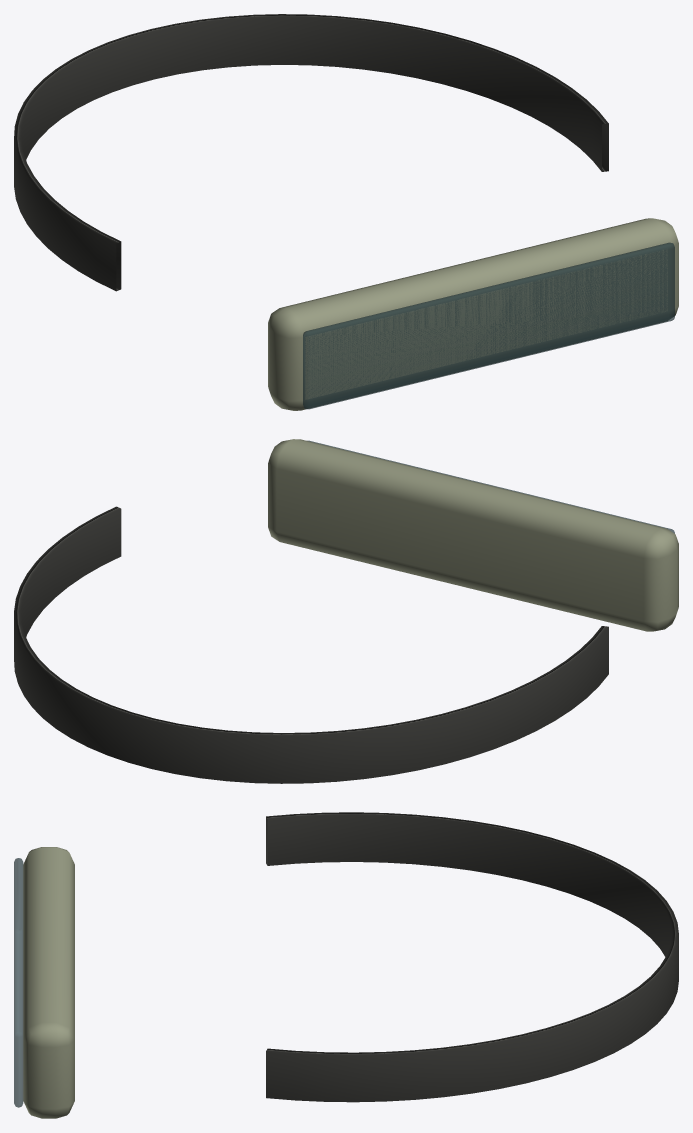
The model's file is goggles_CT.glb.
The picture shows the model from 3 angles, top to bottom: view 1: azimuth 30°, elevation 25°; view 2: azimuth 150°, elevation 25°; view 3: azimuth 270°, elevation 25°; orthographic projection. The views are drawn at different scales.
Parts seen in each view (by area): view 1: glasses@Head; view 2: glasses@Head; view 3: glasses@Head.
Part boxes in pixels (x1,y1,x2,y2): glasses@Head: [14, 14, 678, 410]; glasses@Head: [14, 439, 678, 783]; glasses@Head: [14, 812, 678, 1118].
Bounding box in the file's own units: 0.2457 × 0.0455 × 0.2839.
